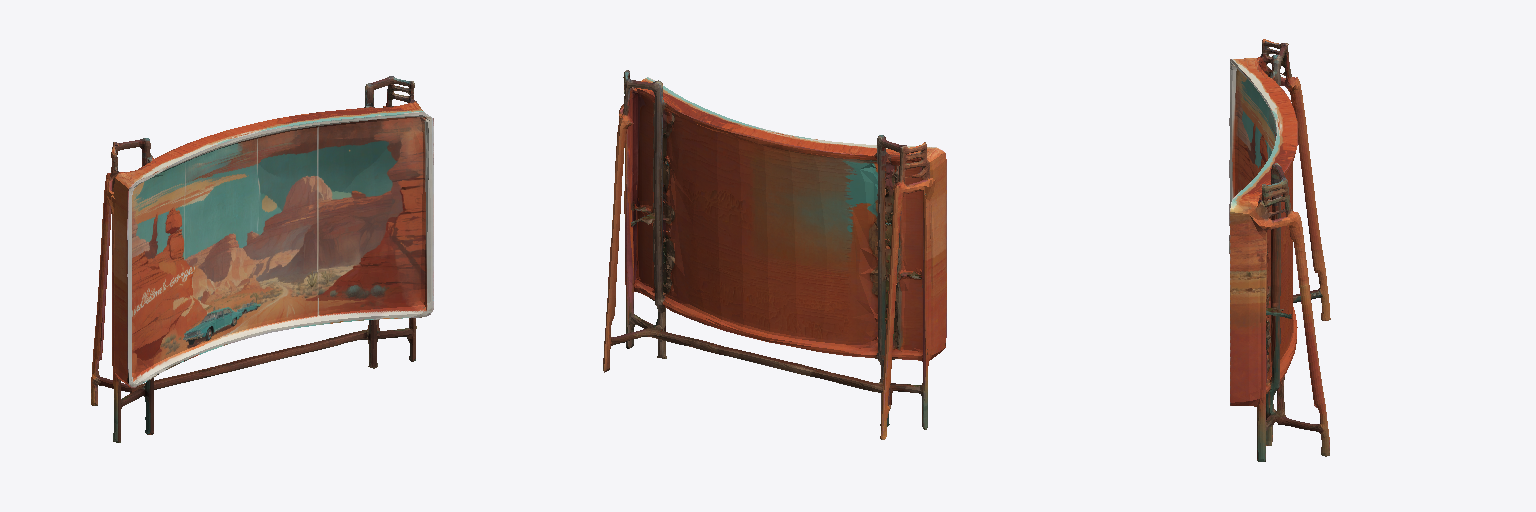
3 views of the same model, side by side, from view 1: azimuth 30°, elevation 25°; view 2: azimuth 150°, elevation 25°; view 3: azimuth 270°, elevation 25° (orthographic).
Visible parts, largest first — view 1: Deadlock_Gorge_Signbo_[number redacted]_texture; view 2: Deadlock_Gorge_Signbo_[number redacted]_texture; view 3: Deadlock_Gorge_Signbo_[number redacted]_texture.
Boxes of the visible parts, x1,y1,x2,y2 form: Deadlock_Gorge_Signbo_[number redacted]_texture: [91, 76, 433, 442]; Deadlock_Gorge_Signbo_[number redacted]_texture: [603, 70, 946, 439]; Deadlock_Gorge_Signbo_[number redacted]_texture: [1229, 39, 1330, 461].
Size of the model in its own units: 1.93 by 1.74 by 0.5449.
1 materials, 1 textured.